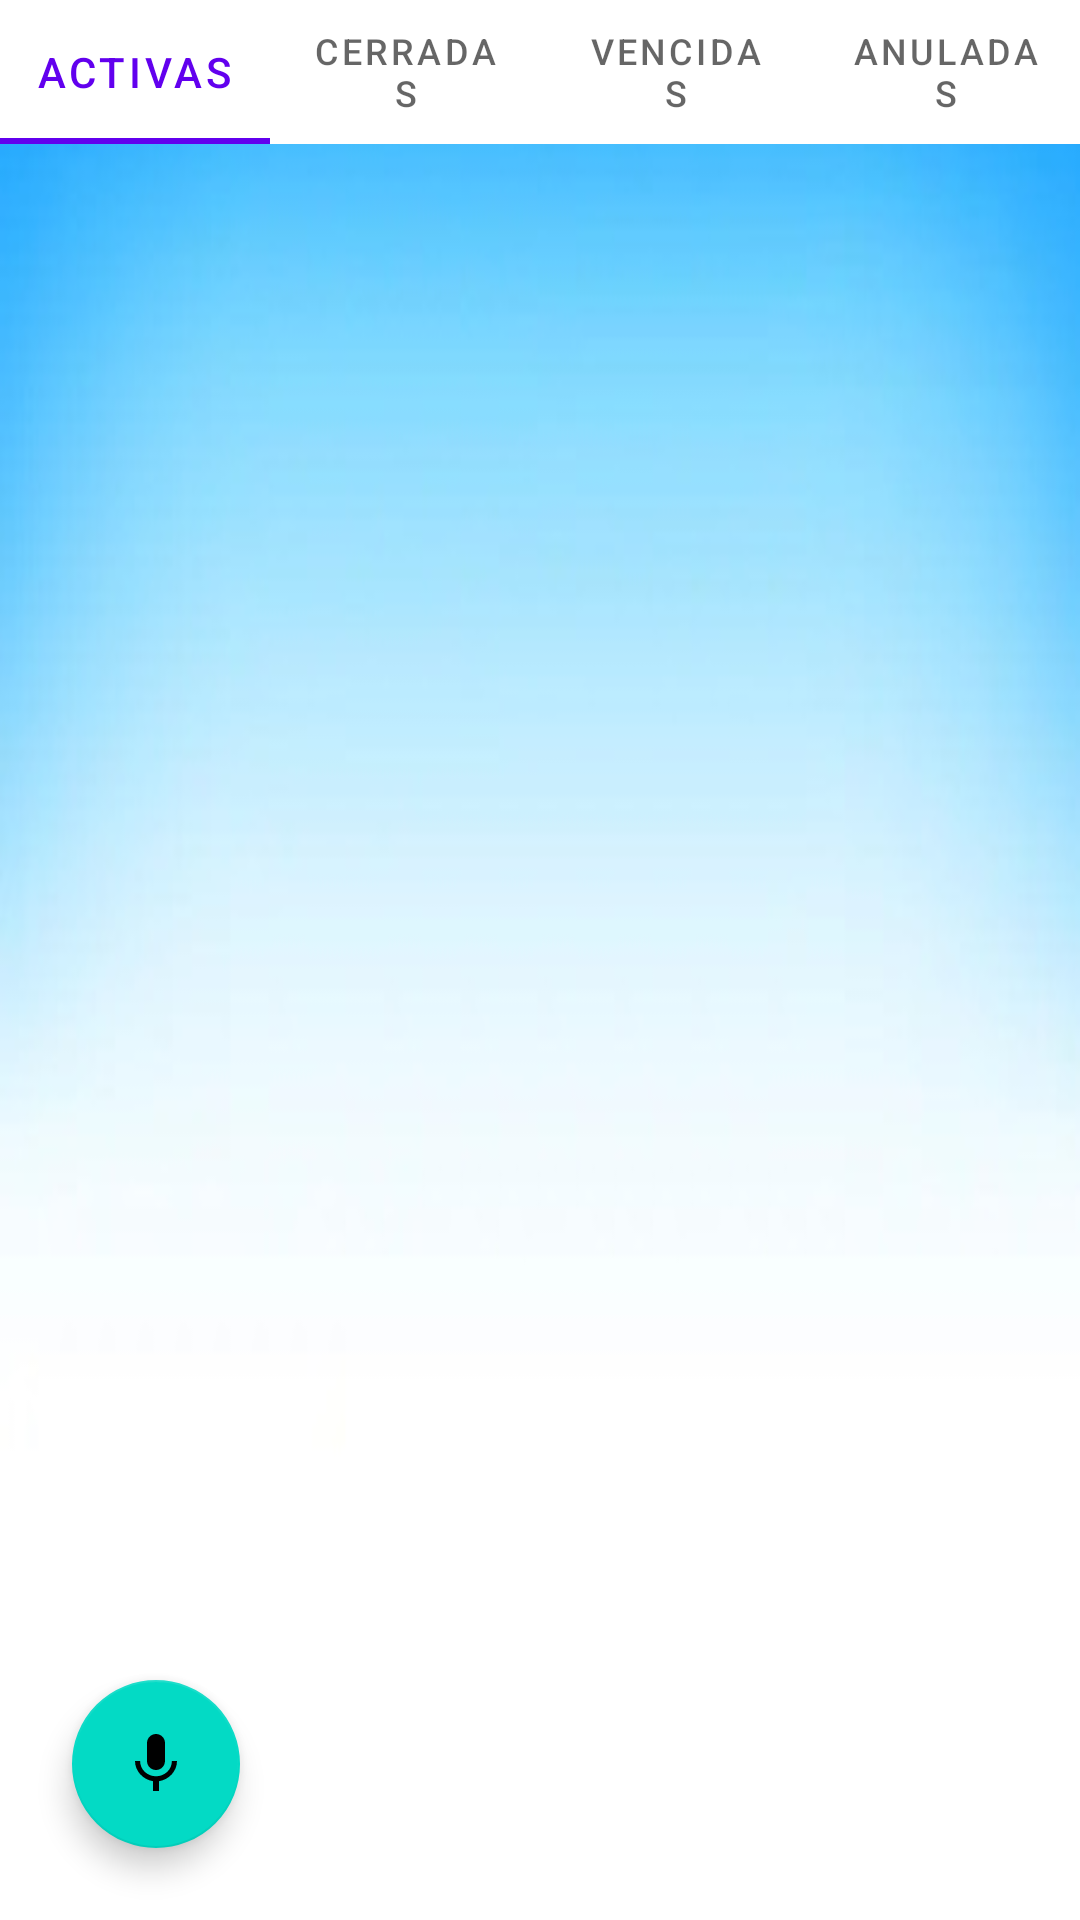

Point at icon controls on the screen. Image size 1080×1920, points as (x,y).
mic: (156,1764)
